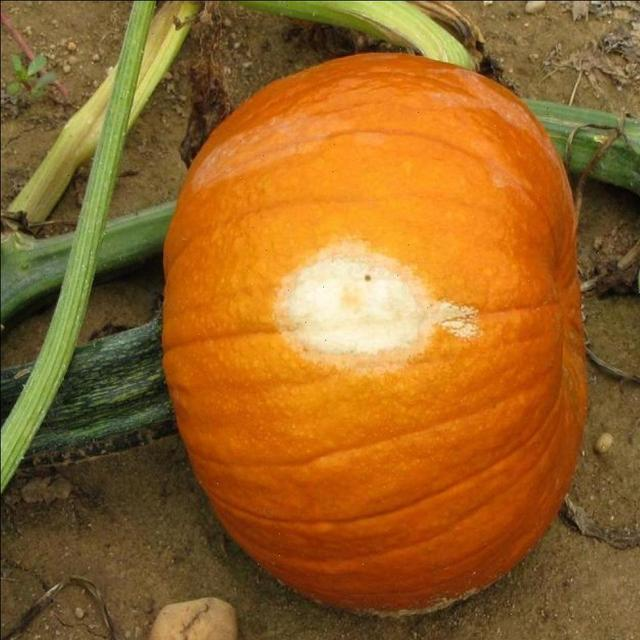Sunscald Fruit: (161, 157, 326, 244)
